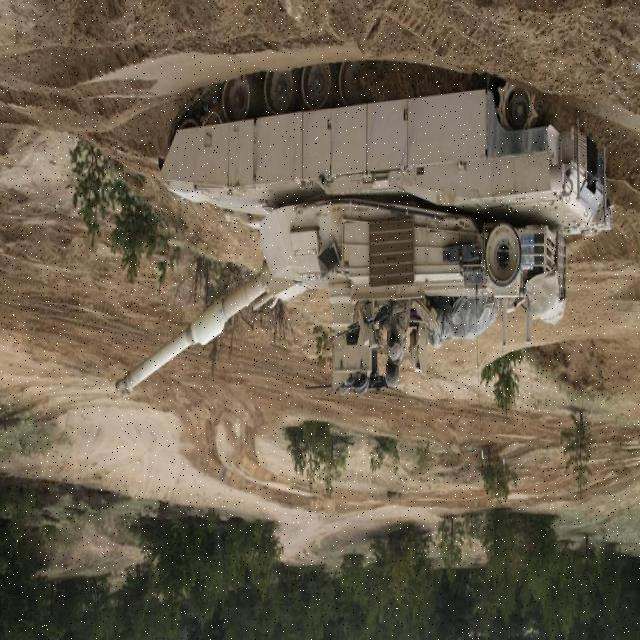MIL_MBT: (122, 76, 562, 399)
